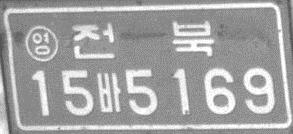1: (25, 69, 57, 116), (167, 67, 198, 115)
5: (124, 68, 158, 116), (60, 69, 93, 116)
6: (203, 67, 236, 114)
9: (242, 67, 274, 115)
바: (96, 71, 122, 114)
영: (24, 24, 59, 62)
전북_D: (71, 19, 214, 60)
